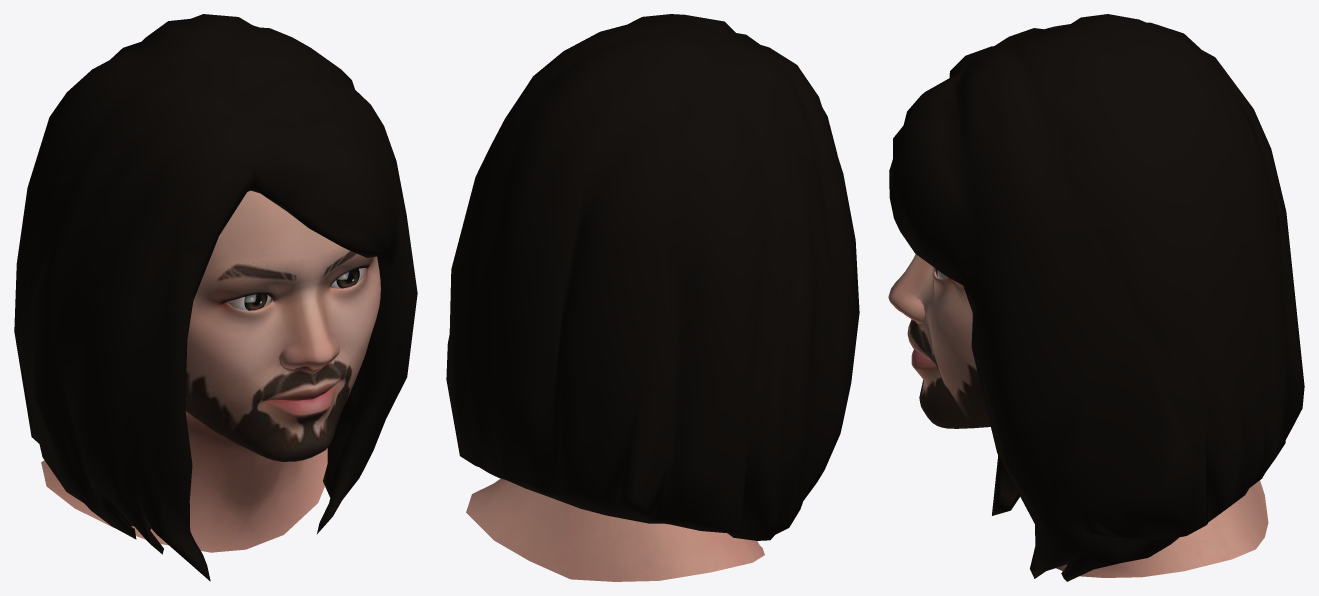
3 views of the same model, side by side, from view 1: azimuth 30°, elevation 25°; view 2: azimuth 150°, elevation 25°; view 3: azimuth 270°, elevation 25° (orthographic). The views are drawn at different scales.
Parts seen in each view (by area): view 1: Wolf3D_Hair, Wolf3D_Head, EyeRight; view 2: Wolf3D_Hair, Wolf3D_Head; view 3: Wolf3D_Hair, Wolf3D_Head.
Part boxes in pixels (x1,y1,x2,y2): Wolf3D_Hair: (14, 14, 417, 581); Wolf3D_Head: (41, 190, 380, 552); EyeRight: (226, 293, 270, 310); Wolf3D_Hair: (446, 14, 859, 540); Wolf3D_Head: (466, 478, 764, 581); Wolf3D_Hair: (889, 14, 1304, 581); Wolf3D_Head: (888, 254, 1268, 577).
Bounding box in the file's own units: 0.2317 × 0.3381 × 0.2433.
4 materials, 4 textured.
